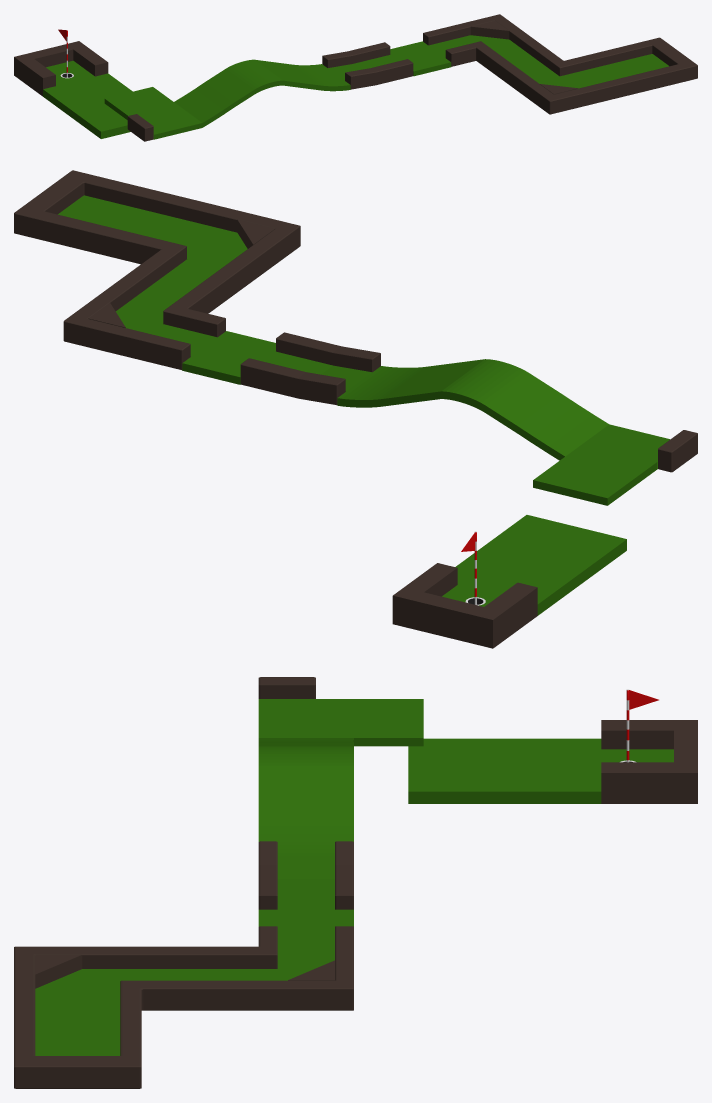
Rendered from Level 02 Course.fbx.
3 views of the same model, one above another, from view 1: azimuth 30°, elevation 25°; view 2: azimuth 150°, elevation 25°; view 3: azimuth 270°, elevation 25° (orthographic). The views are drawn at different scales.
Visible parts, largest first — view 1: Ground 1, Wall1, Ground 2, Wall2, Corner2; view 2: Ground 1, Wall1, Ground 2, Wall2; view 3: Ground 1, Wall1, Ground 2, Wall2, Corner1.
Part boxes in pixels (x1,y1,x2,y2): Ground 1: [104, 35, 668, 139]; Wall1: [127, 14, 697, 141]; Ground 2: [43, 60, 132, 138]; Wall2: [14, 41, 108, 96]; Corner2: [470, 21, 509, 39]; Ground 1: [58, 195, 669, 505]; Wall1: [14, 170, 697, 472]; Ground 2: [442, 515, 626, 615]; Wall2: [392, 563, 537, 648]; Ground 1: [35, 699, 423, 1055]; Wall1: [14, 677, 353, 1088]; Ground 2: [408, 738, 673, 803]; Wall2: [601, 720, 697, 803]; Corner1: [35, 954, 82, 988].
Bounding box in the file's own units: 3438 × 435 × 2550.
